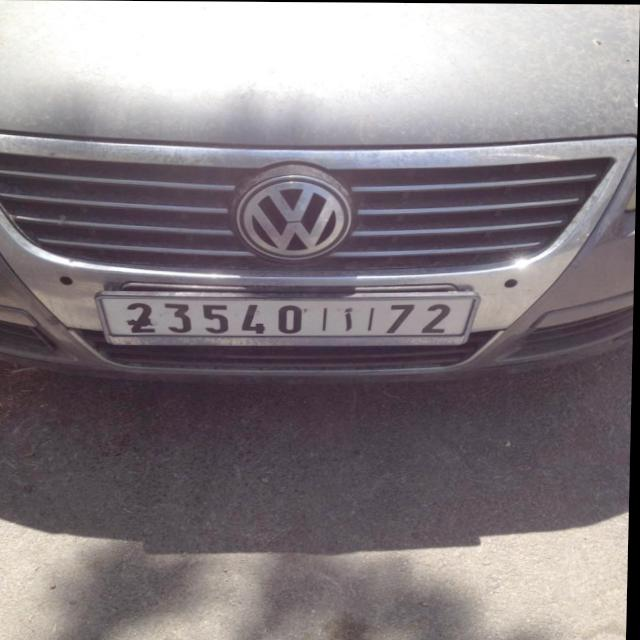License-Plate: (98, 291, 480, 345)
